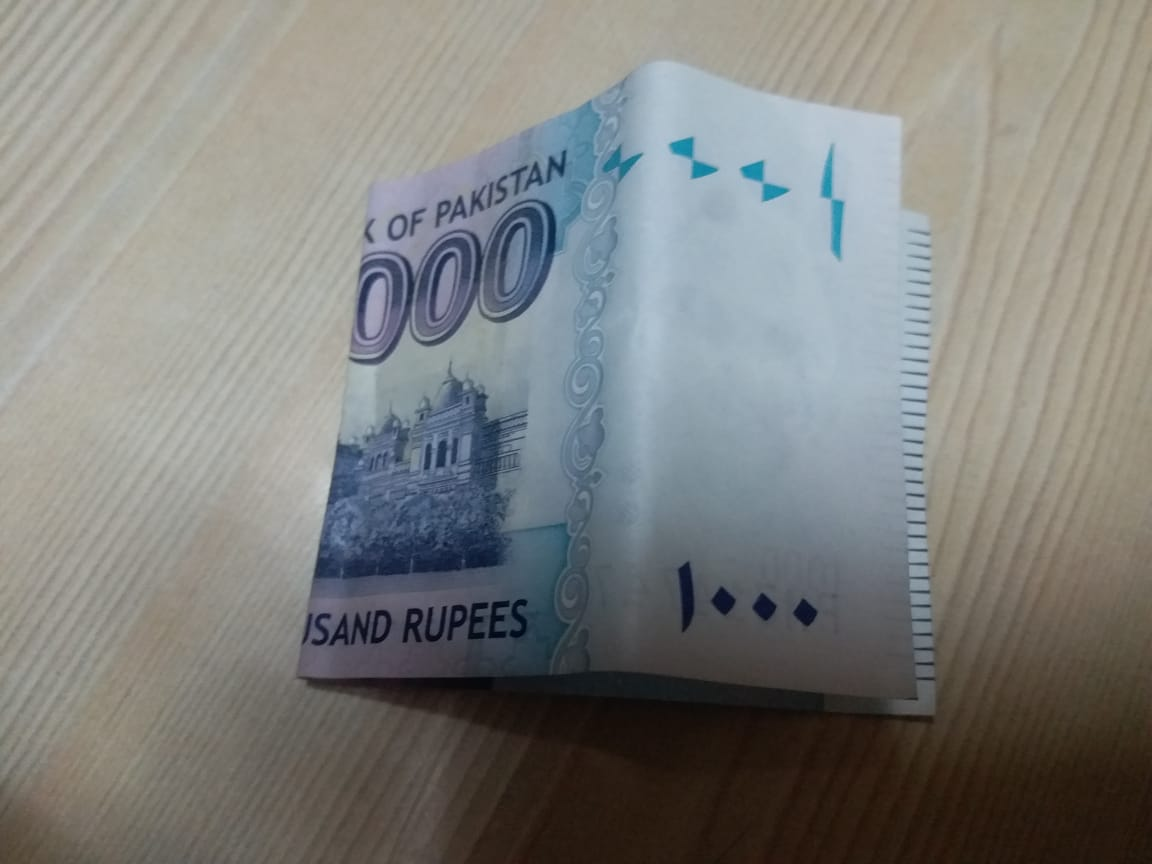1000 rupee: (300, 68, 962, 772)
